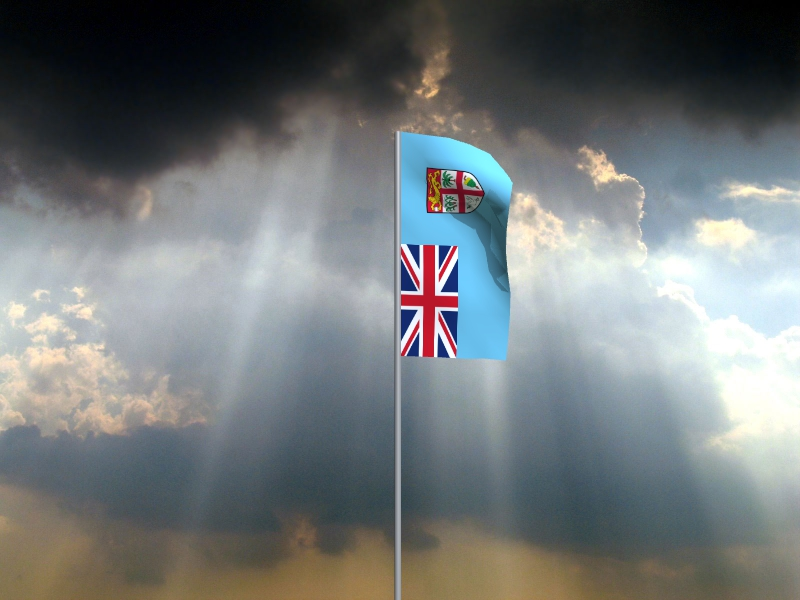fj: (401, 132, 514, 363)
